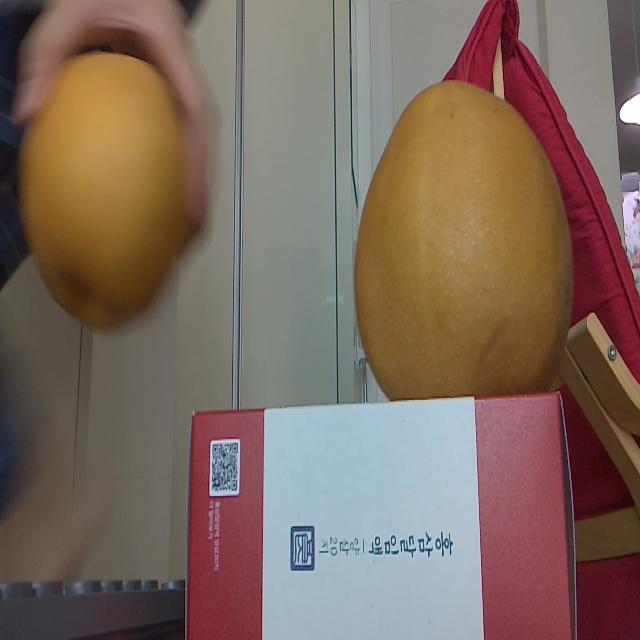pear: (353, 80, 575, 396), (17, 49, 190, 330)
